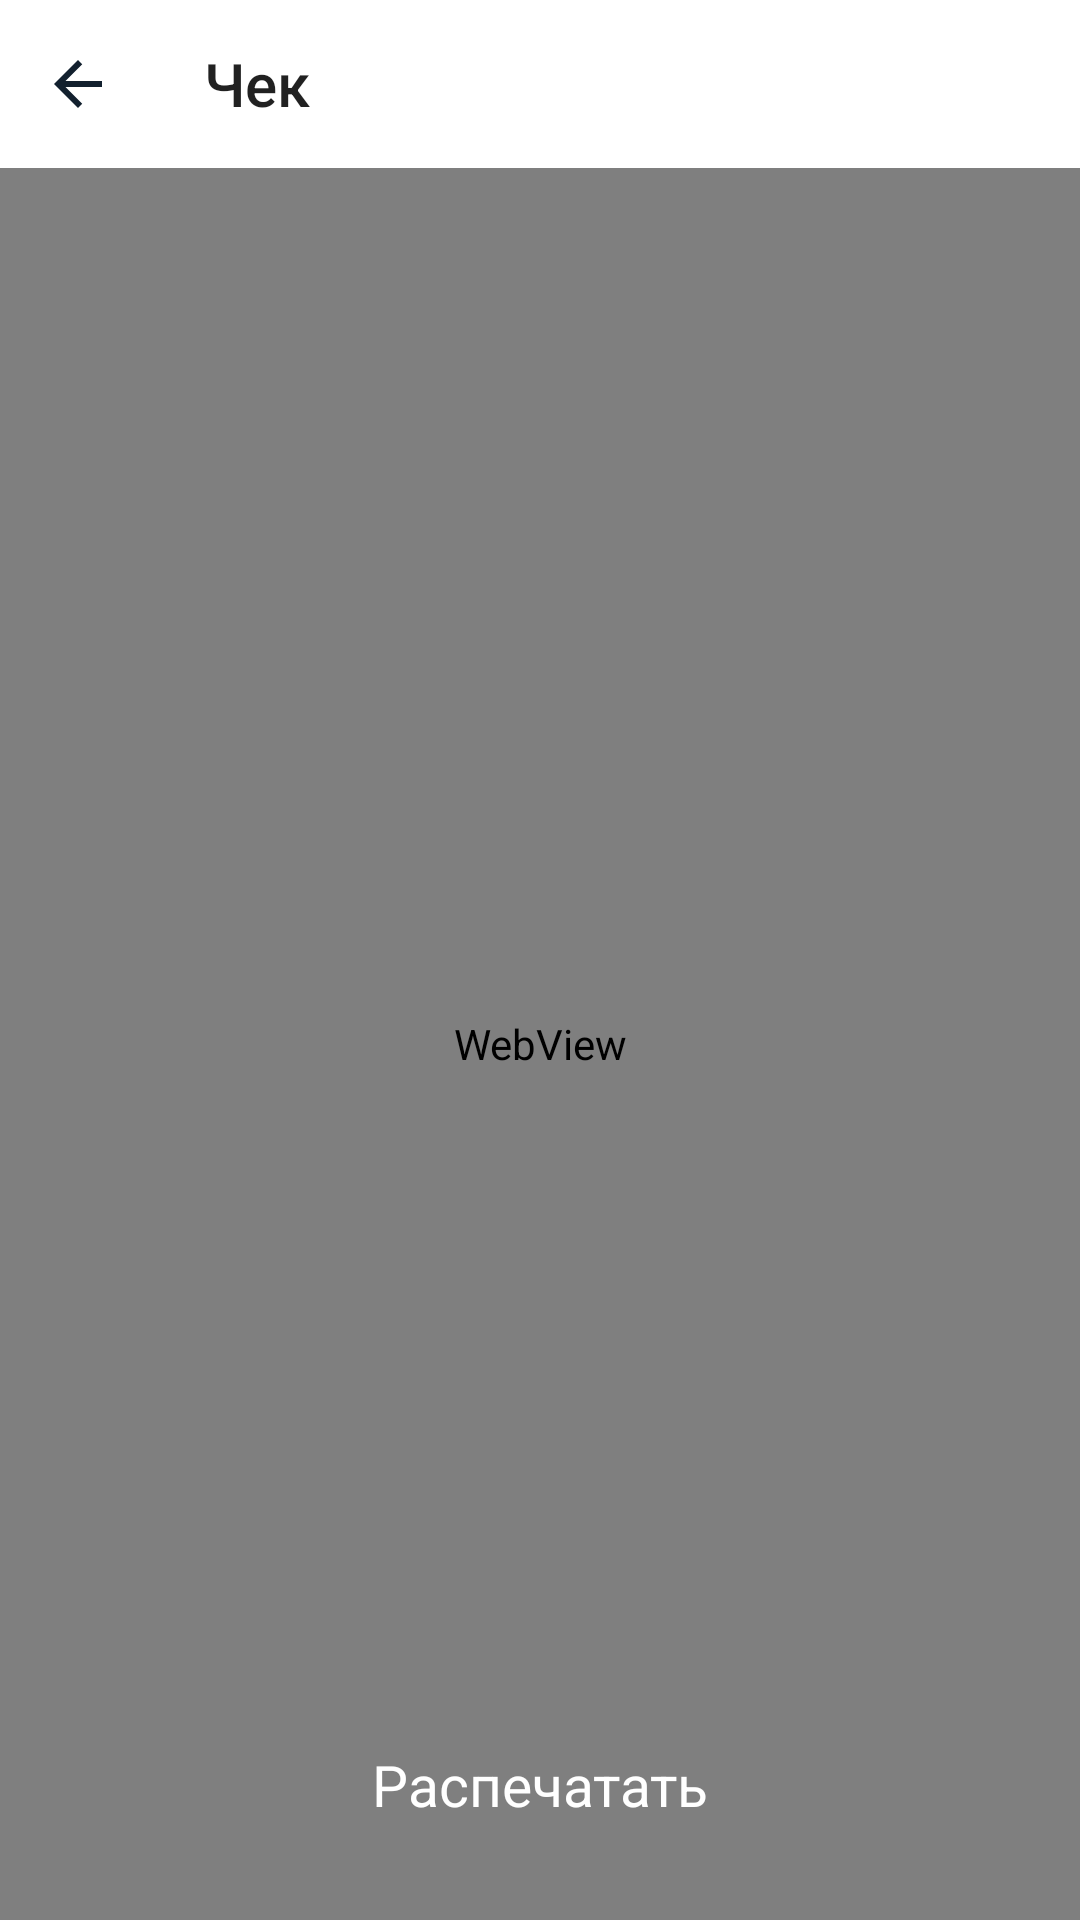

Icons on this 1080 x 1920 Android screen, each with its box as [x1,y1,x2,y2]:
arrback: [54,60,102,108]
